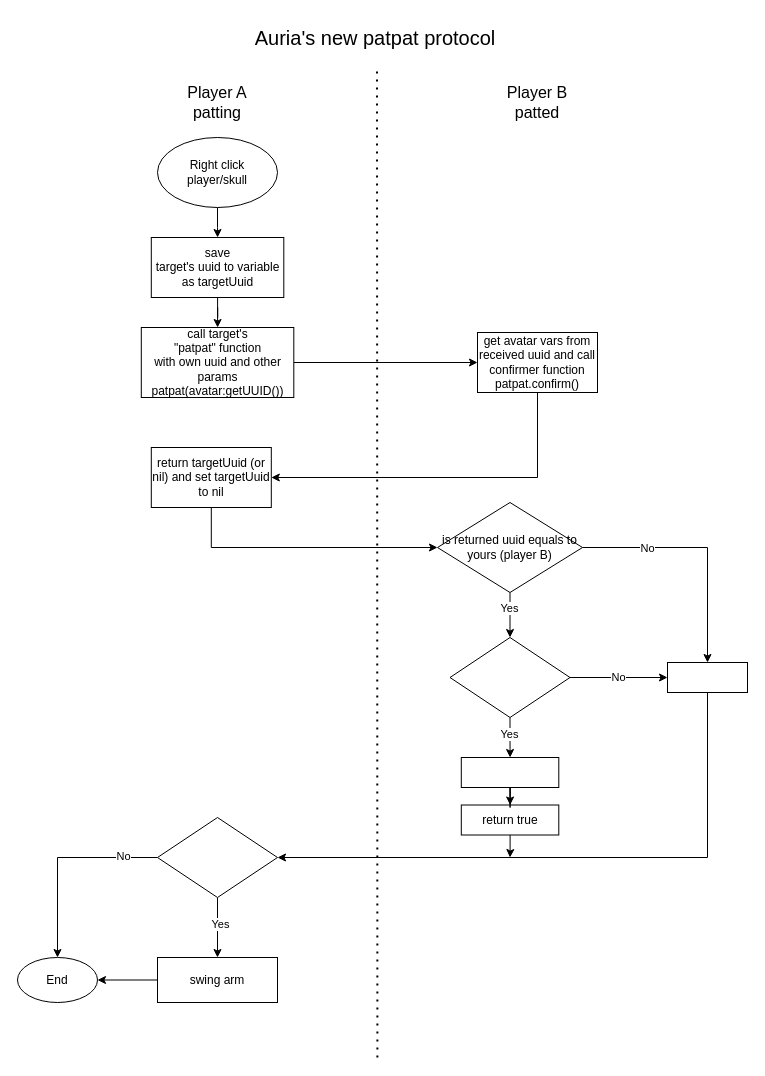
Some shapes in this 765 by 1076 pixel diagram are drawn without their labels. Each missing label, with the box of its shape:
call events: (460, 756, 559, 788)
Is patter whitelisted: (449, 636, 570, 718)
is returned value true: (156, 816, 278, 898)
return false: (666, 662, 748, 692)
